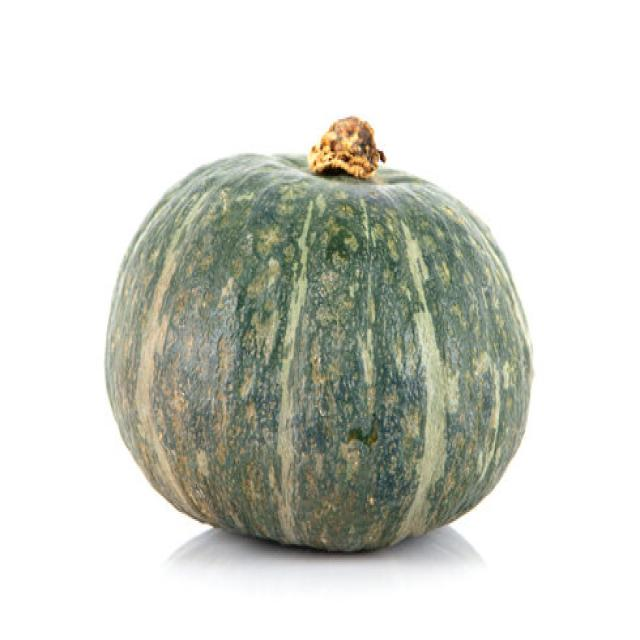Pumpkin: (103, 114, 534, 553)
